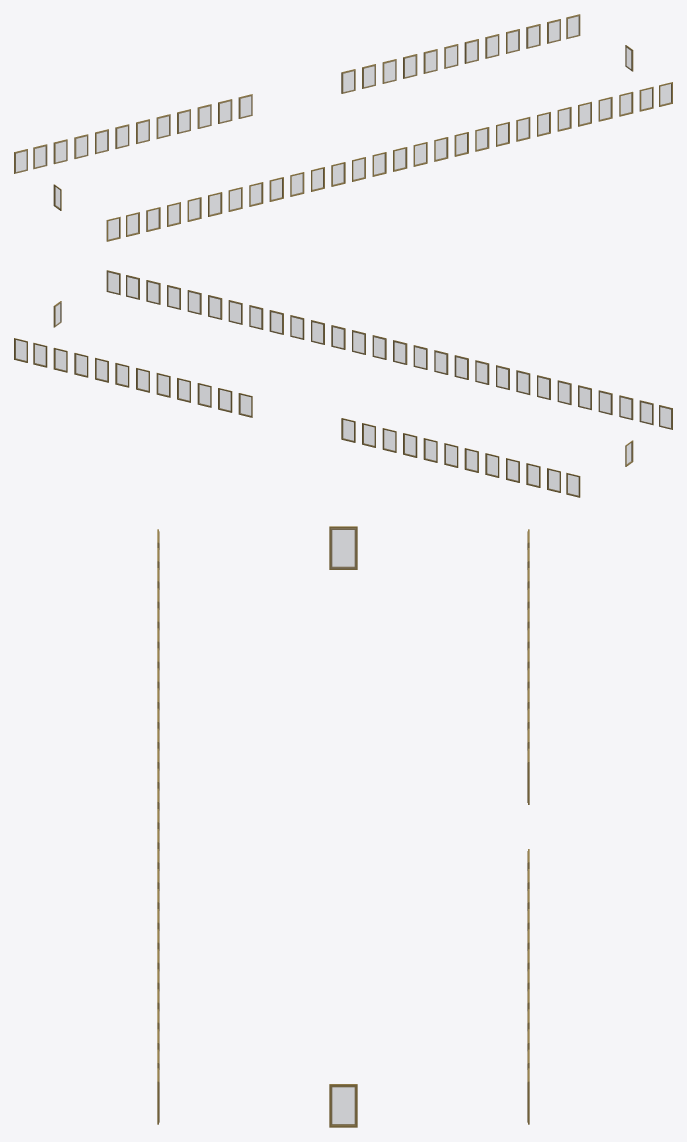
File: 231110AC11-Institute-Var-2-IFC_1_Obergeschoss_IfcWindow.dae
The picture shows the model from 3 angles, top to bottom: view 1: azimuth 30°, elevation 25°; view 2: azimuth 150°, elevation 25°; view 3: azimuth 270°, elevation 25°; orthographic projection. The views are drawn at different scales.
Parts seen in each view (by area): view 1: no part large enough to name; view 2: no part large enough to name; view 3: 1II2wI2iz2xugPBtxLqfRA, 2kyp5olOX6YxfL8$tctAgH.
Part boxes in pixels (<box>): 1II2wI2iz2xugPBtxLqfRA: <box>329,526,357,569</box>; 2kyp5olOX6YxfL8$tctAgH: <box>329,1084,357,1127</box>.
Size of the model in its own units: 41.77 by 11.77 by 1.5.
